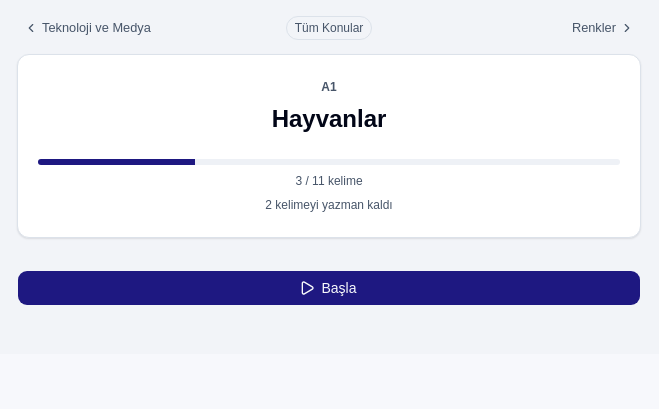
Test case: StudyHomePage › recognizes the device conflict by its code, not by the server's message text
This screenshot has width=659, height=409.
What coordinates should you click on to do the following:
click the button "Başla"
I would click on:
 (329, 288)
Its box is [17,270,641,306].
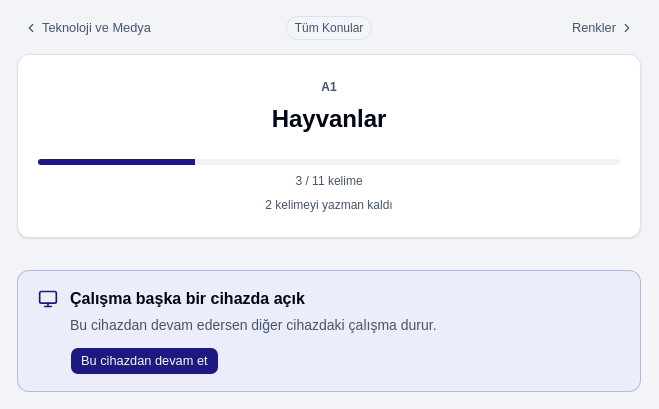
Now the message is shown, box [17,270,641,392]
